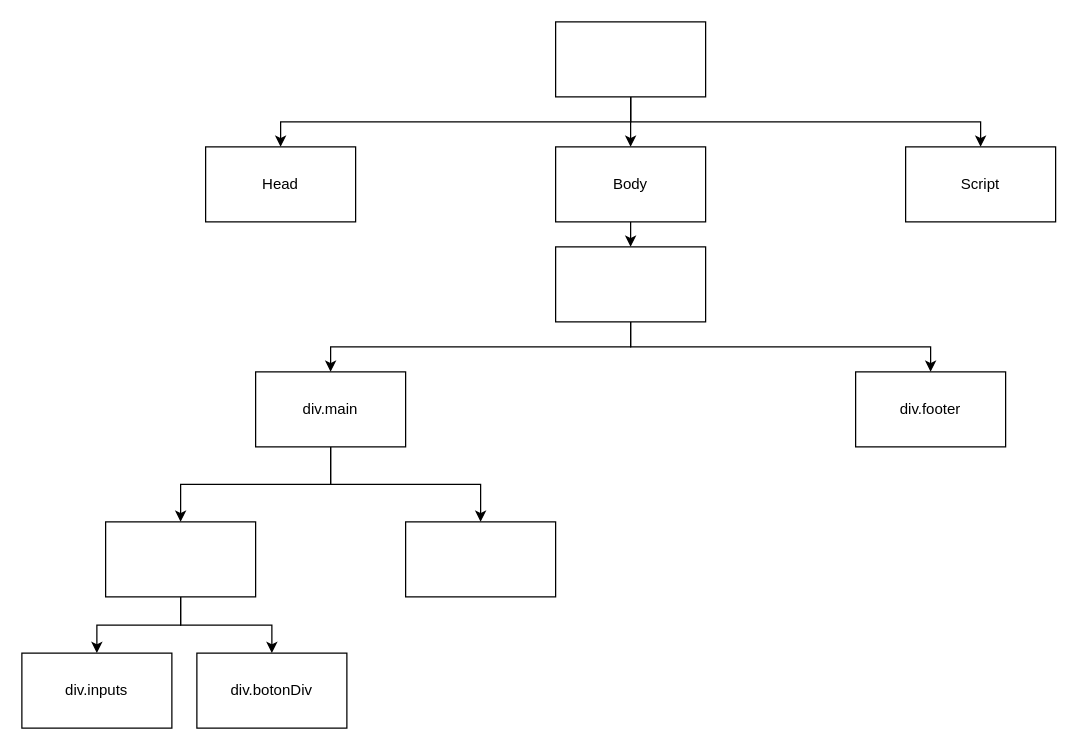
This 1078x750 diagram has some shape labels left out. The shapes that lost their labels are listed below. From the top down, each one's centre as x and y in pixels, then its label:
(630,59): Document
(630,284): div.container
(180,559): div.formulario
(480,559): div.imagenes
